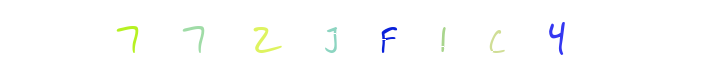2: (254, 0, 334, 80)
4: (452, 0, 532, 80)
7: (91, 0, 171, 80), (205, 0, 285, 80)
C: (444, 0, 524, 80)
F: (327, 0, 407, 80)
I: (327, 0, 407, 80)
J: (315, 0, 395, 80)
